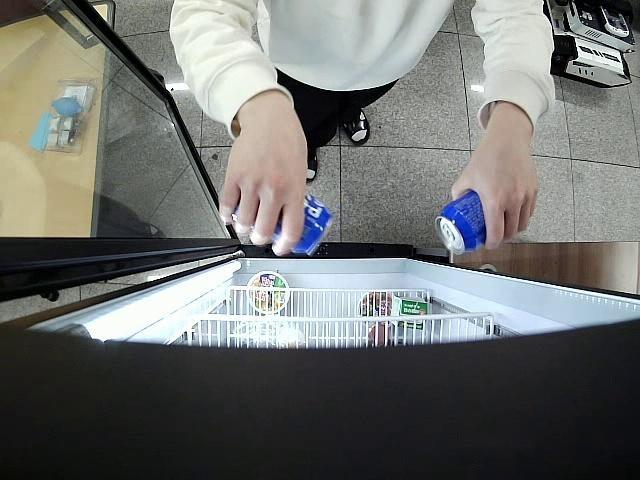13_pocariSweat: (232, 188, 334, 255), (433, 185, 486, 256)
